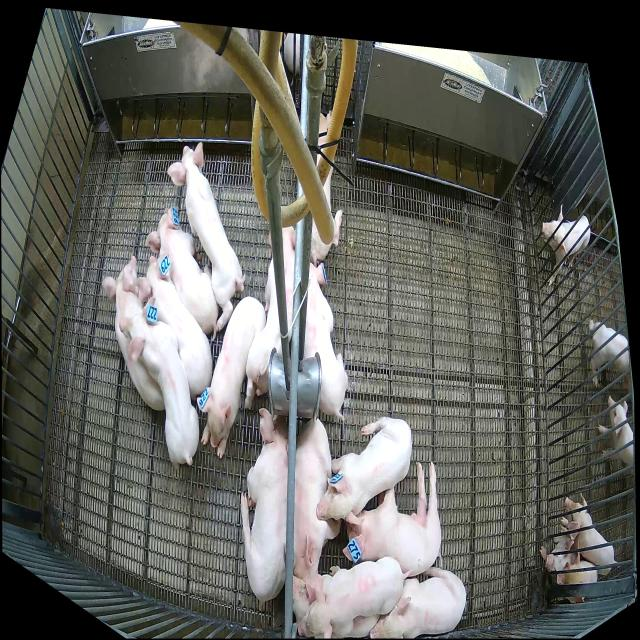pig: (167, 143, 244, 331), (119, 297, 199, 463), (343, 460, 443, 577), (197, 296, 266, 460), (136, 255, 212, 396), (316, 417, 412, 526), (145, 206, 219, 341), (102, 255, 165, 410), (244, 225, 296, 411), (240, 409, 288, 601), (295, 555, 403, 636), (294, 418, 340, 581), (304, 262, 348, 421), (370, 568, 466, 639), (292, 575, 382, 638), (310, 111, 342, 261)
